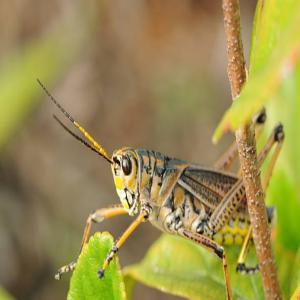locust: (70, 111, 299, 283)
